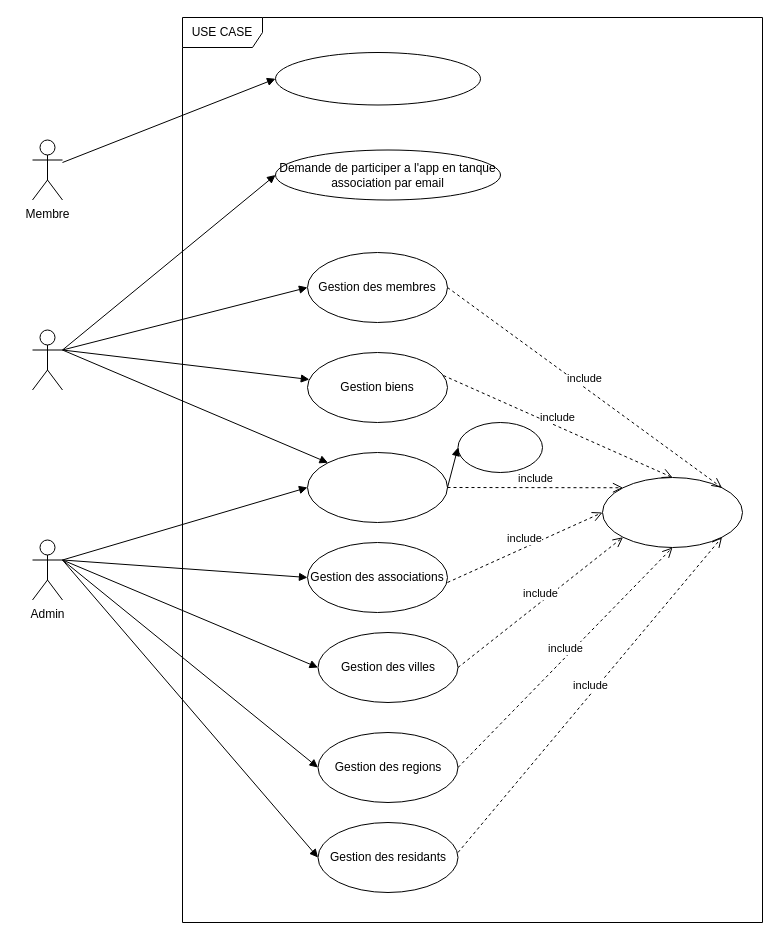
Some shapes in this 780 by 940 pixel diagram are drawn without their labels. Here are the shapes that lost their labels. From the top down, the centre of each, then its label:
At [377,78]: "Demande de participation a une association par email".
At [47,359]: "Association".
At [499,447]: "read the statistique".
At [377,487]: "statistique des regions qui a recu l'aide et qui pas".
At [672,512]: "Connection".
